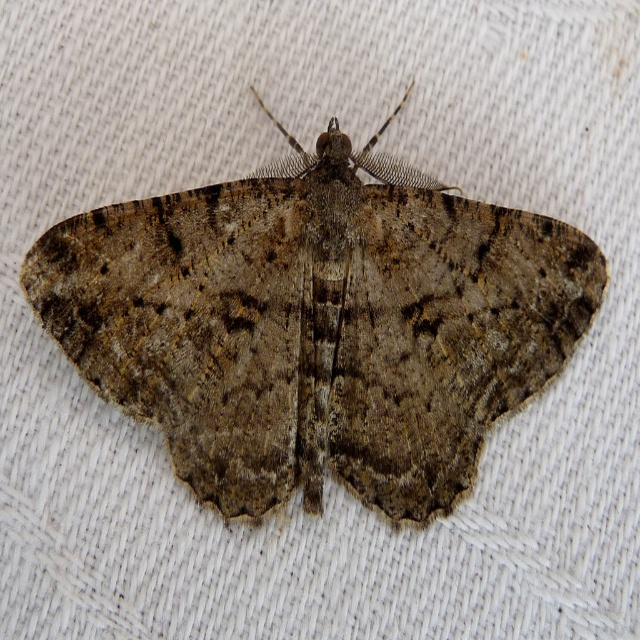Butterfly: (20, 80, 606, 528)
